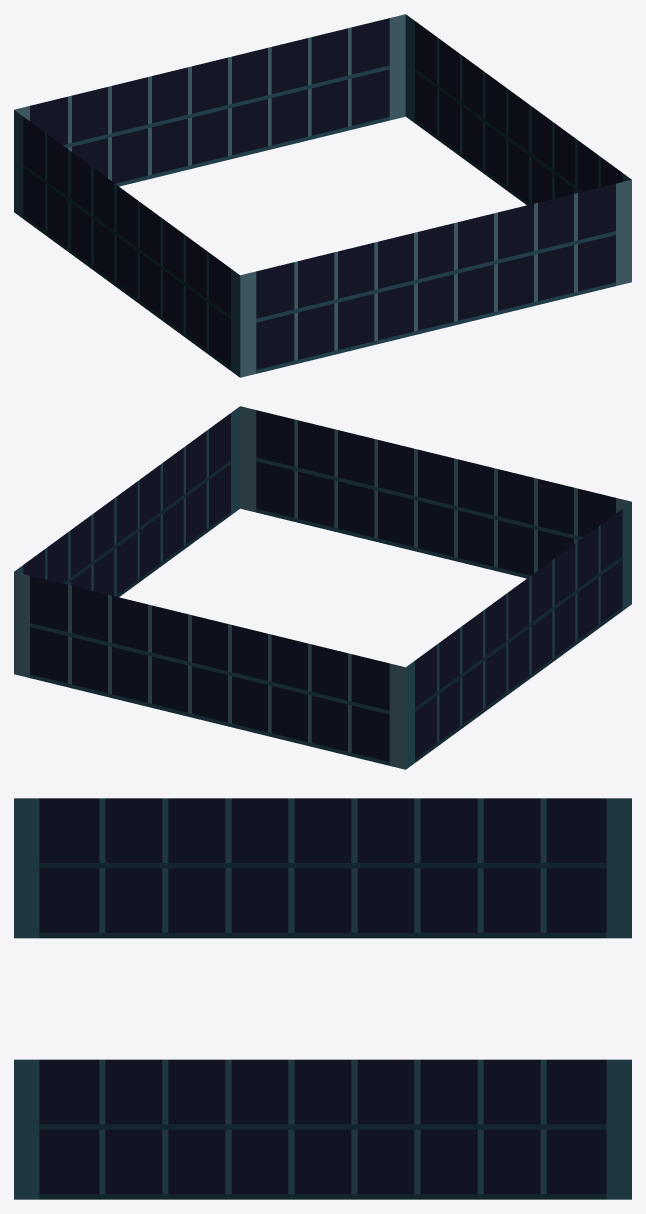
File: TB_CITY_Skysc_N_LowerBodyA_Blue.FBX
3 renders of one model, top to bottom at view 1: azimuth 30°, elevation 25°; view 2: azimuth 150°, elevation 25°; view 3: azimuth 270°, elevation 25°, orthographic. The views are drawn at different scales.
Parts seen in each view (by area): view 1: TB_CITY_Skysc_N_LowerBodyA_Blue; view 2: TB_CITY_Skysc_N_LowerBodyA_Blue; view 3: TB_CITY_Skysc_N_LowerBodyA_Blue.
Boxes of the visible parts, x1=… form: TB_CITY_Skysc_N_LowerBodyA_Blue: x1=14, y1=14, x2=631, y2=377; TB_CITY_Skysc_N_LowerBodyA_Blue: x1=14, y1=406, x2=631, y2=769; TB_CITY_Skysc_N_LowerBodyA_Blue: x1=14, y1=798, x2=631, y2=1199.
Size of the model in its own units: 20 by 5 by 20.
